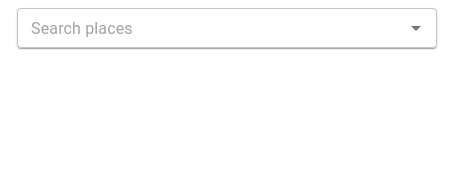
Scenario: SearchBox › chooses with the keyboard, fetches the fields, and reports the place
Later steps or results of the test are not shown.
Type "Mis" into the dropdown labelled "Search places" at (210, 28), box left=23, top=14, right=398, bottom=42
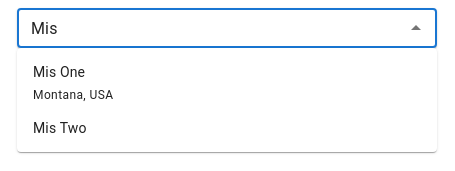
expect the text "Mis Two" is shown: met, box left=33, top=118, right=87, bottom=138
